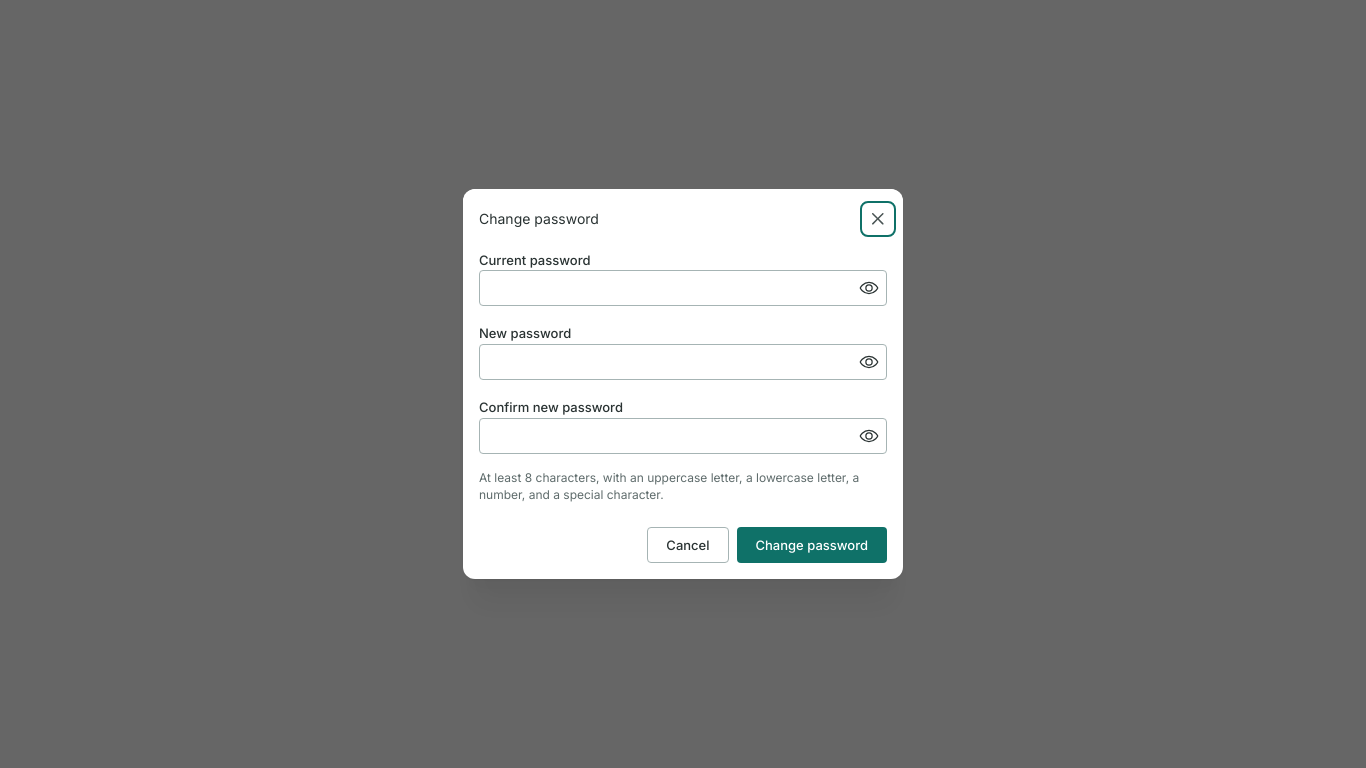
Test: ChangePasswordDialog › blames the current-password field when the server rejects it
Type "OldPass1!" into the password field labelled "Current password". click: (683, 288)
box: [480,271,886,305]
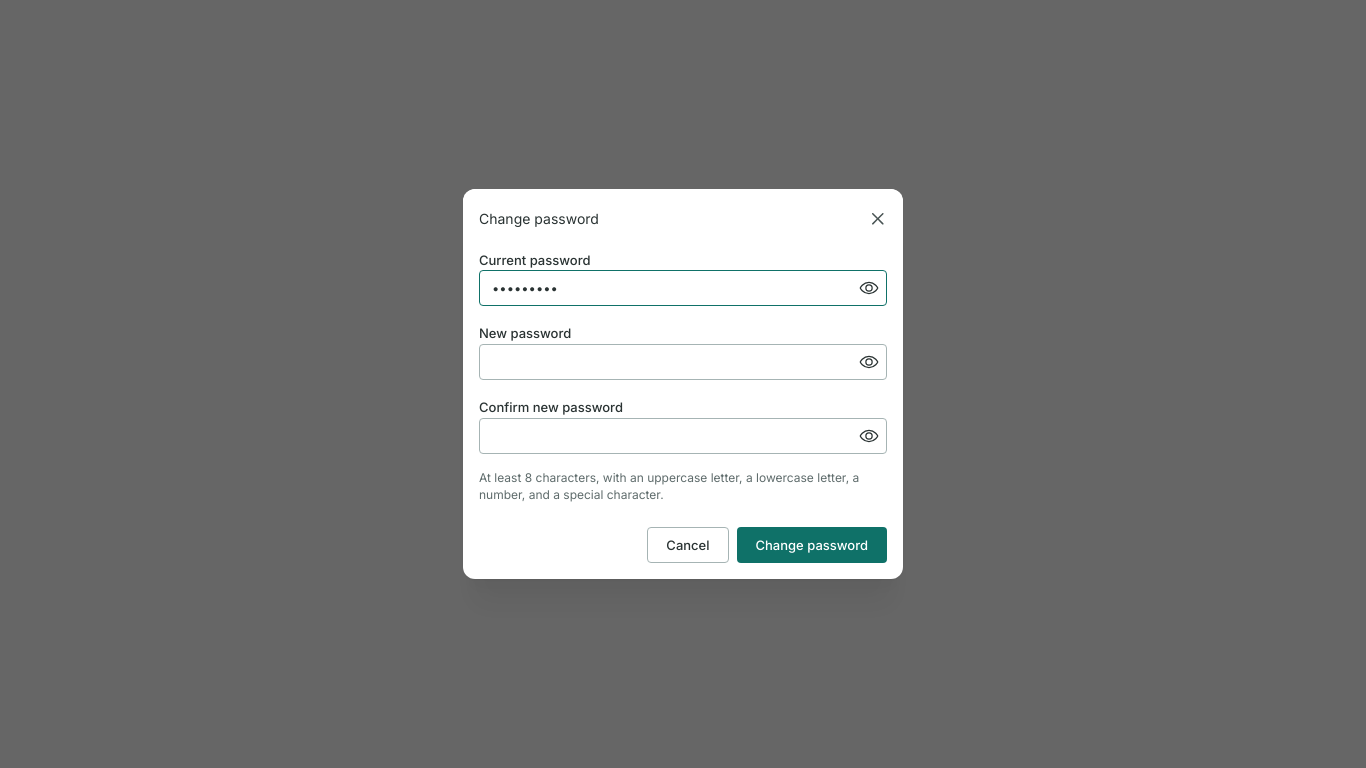
Type "NewPass1!" into the password field labelled "New password". click: (683, 362)
box: [480,345,886,379]
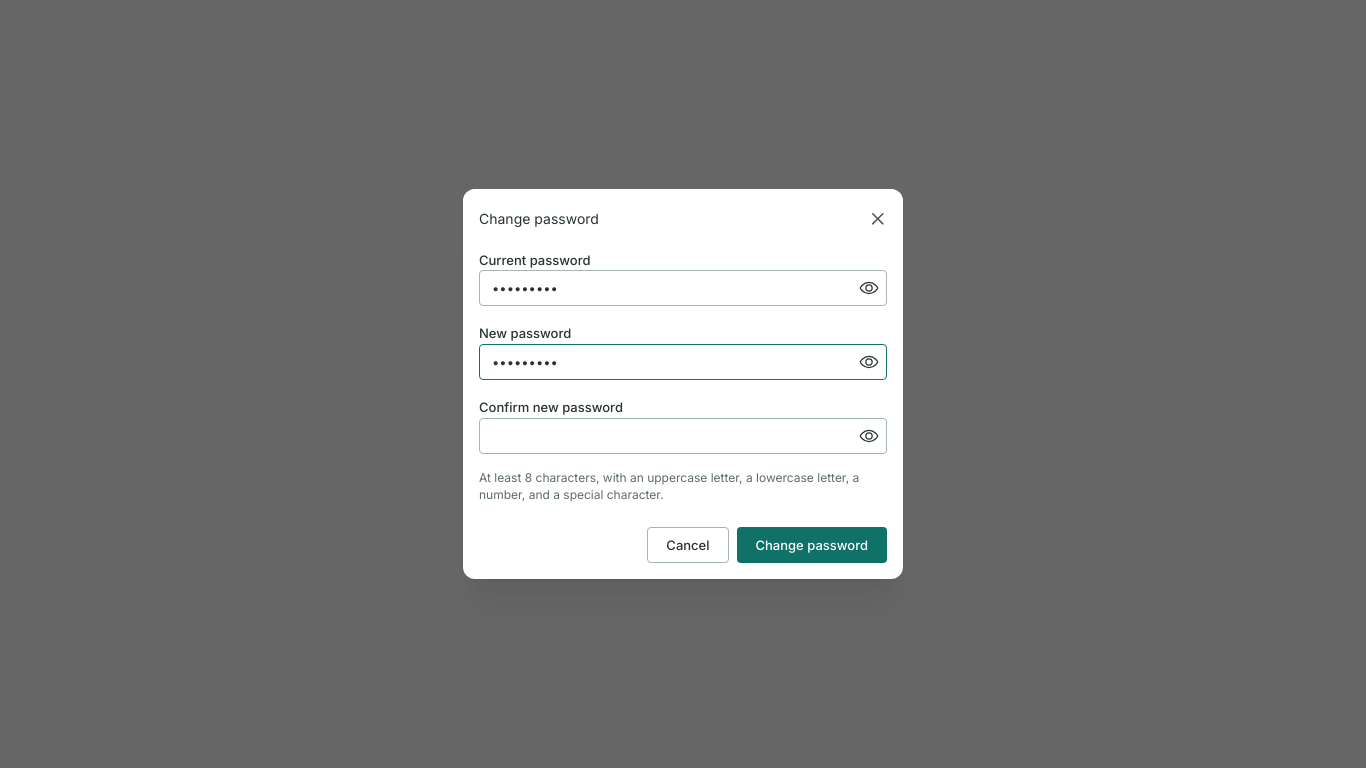
Type "NewPass1!" into the password field labelled "Confirm new password". click: (683, 436)
box: [480,419,886,453]
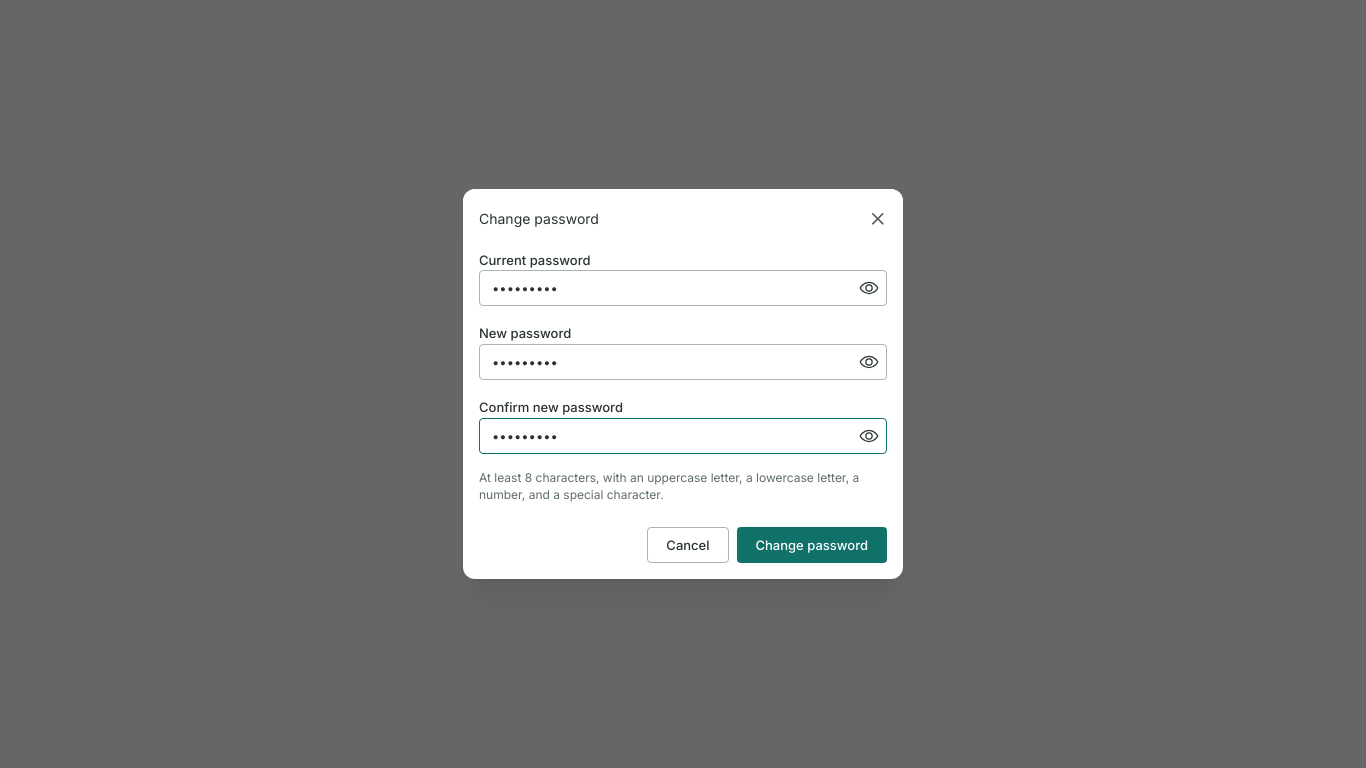
Click the button "Change password". click: (812, 545)
box: [736,527,887,563]
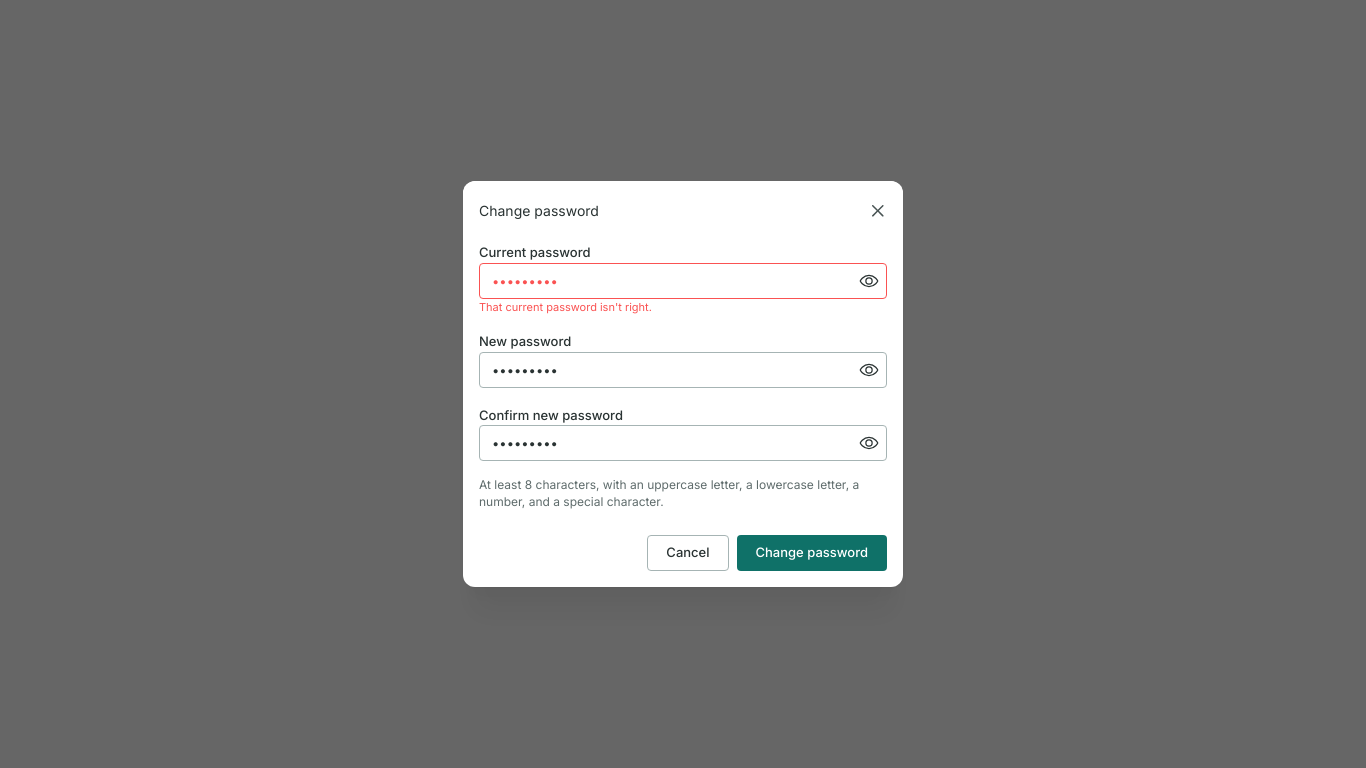
expect the text "That current password isn't right." is shown: met, box [479,300,652,314]
